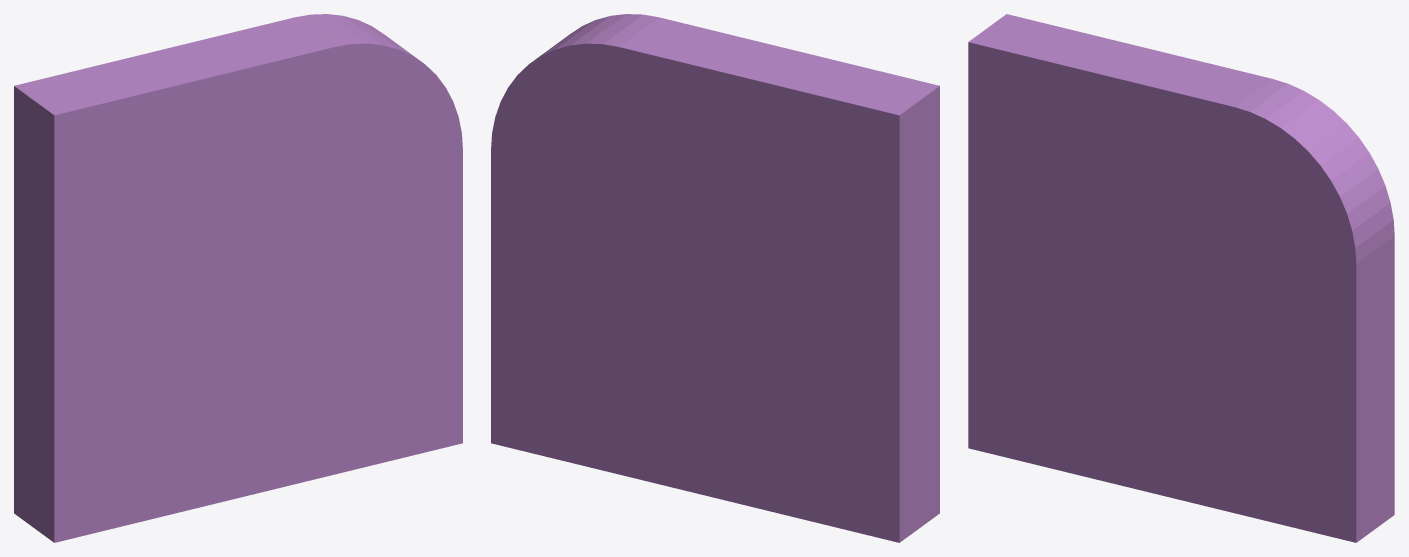
The model's file is gimmick.glb.
3 views of the same model, side by side, from view 1: azimuth 30°, elevation 25°; view 2: azimuth 150°, elevation 25°; view 3: azimuth 330°, elevation 25° (orthographic). The views are drawn at different scales.
Parts seen in each view (by area): view 1: obj_0; view 2: obj_0; view 3: obj_0.
Part boxes in pixels (x1,y1,x2,y2): obj_0: [14, 14, 462, 542]; obj_0: [491, 14, 939, 542]; obj_0: [968, 14, 1394, 542].
Size of the model in its own units: 35 by 35 by 6.
